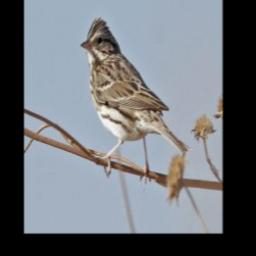Sparrow: (80, 16, 190, 188)
